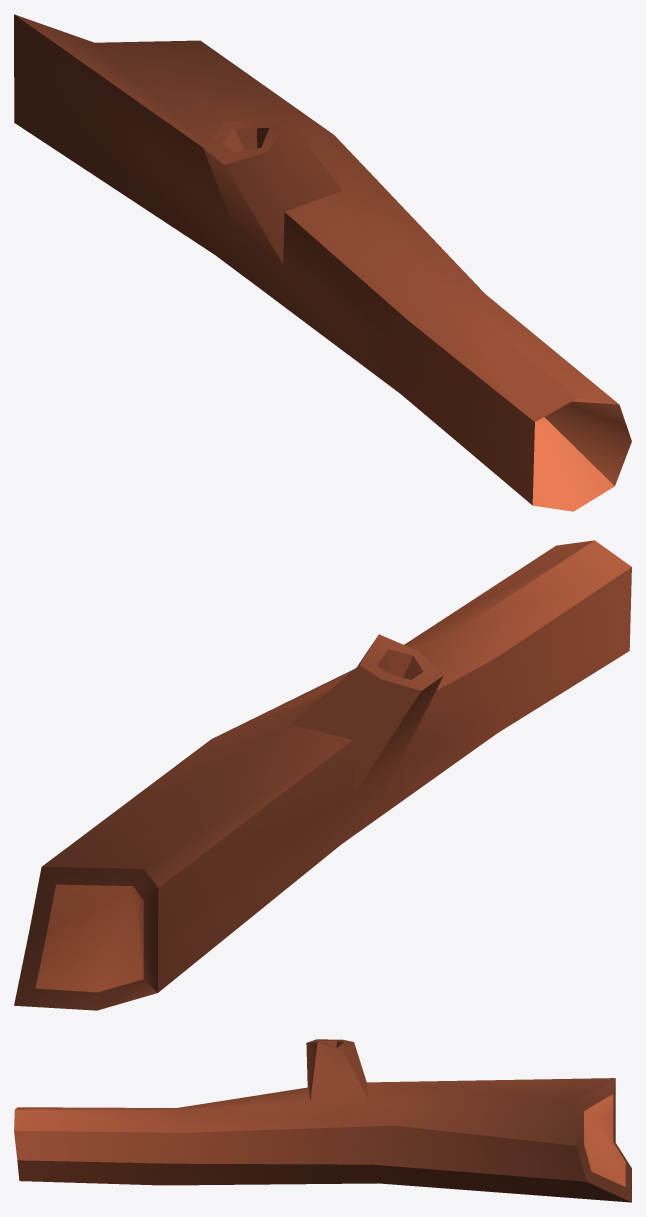
Rendered from Trunk_C_2.fbx.
3 renders of one model, top to bottom at view 1: azimuth 30°, elevation 25°; view 2: azimuth 150°, elevation 25°; view 3: azimuth 270°, elevation 25°, orthographic. The views are drawn at different scales.
Parts seen in each view (by area): view 1: Trunk_C_2; view 2: Trunk_C_2; view 3: Trunk_C_2.
Part boxes in pixels (x1,y1,x2,y2): Trunk_C_2: [14, 14, 631, 511]; Trunk_C_2: [14, 540, 631, 1010]; Trunk_C_2: [14, 1039, 631, 1202].
Size of the model in its own units: 33.85 by 35.18 by 154.
